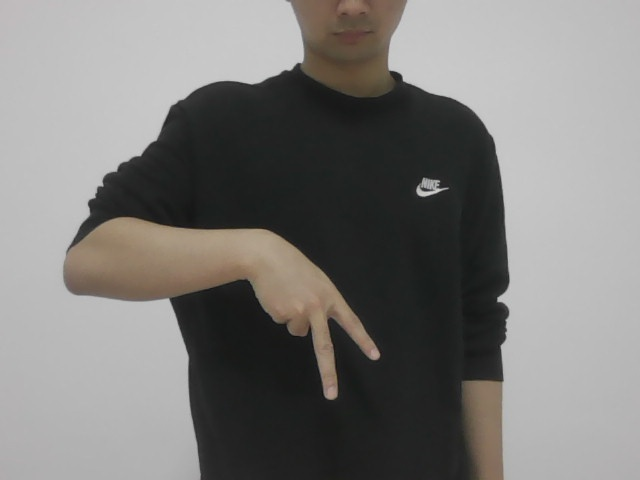walk: (216, 201, 391, 403)
